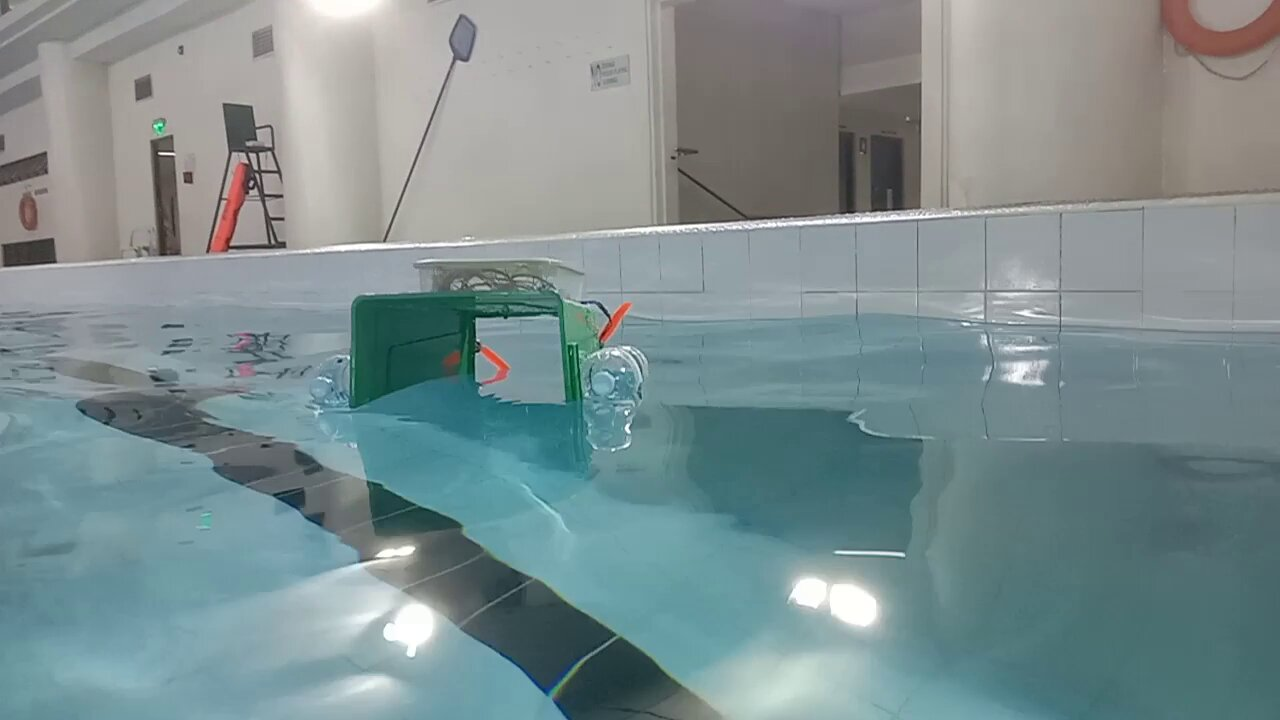drone: (309, 257, 648, 413)
